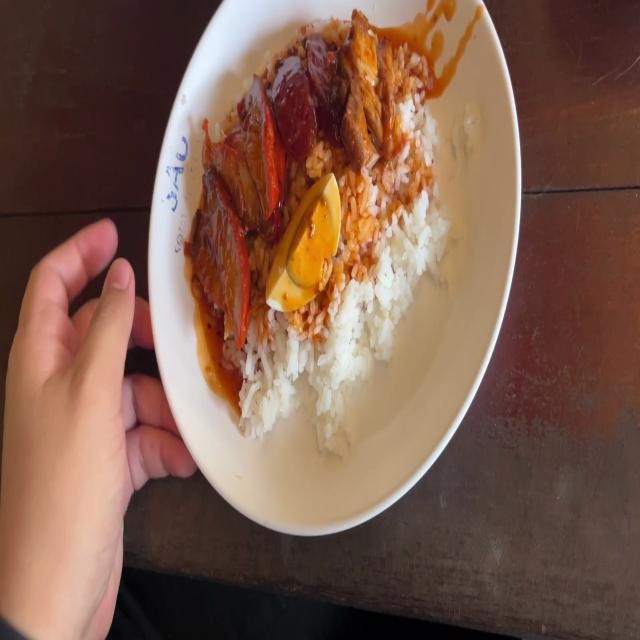01boiled_egg: (266, 173, 338, 309)
01chainese_sausage: (278, 33, 342, 151)
01crispy_pork: (344, 20, 400, 166)
01red_pork: (199, 83, 276, 339)
01red_pork_and_crispy_pork: (196, 23, 447, 439)
01rice: (342, 166, 443, 334), (245, 314, 358, 433), (400, 52, 436, 169)
